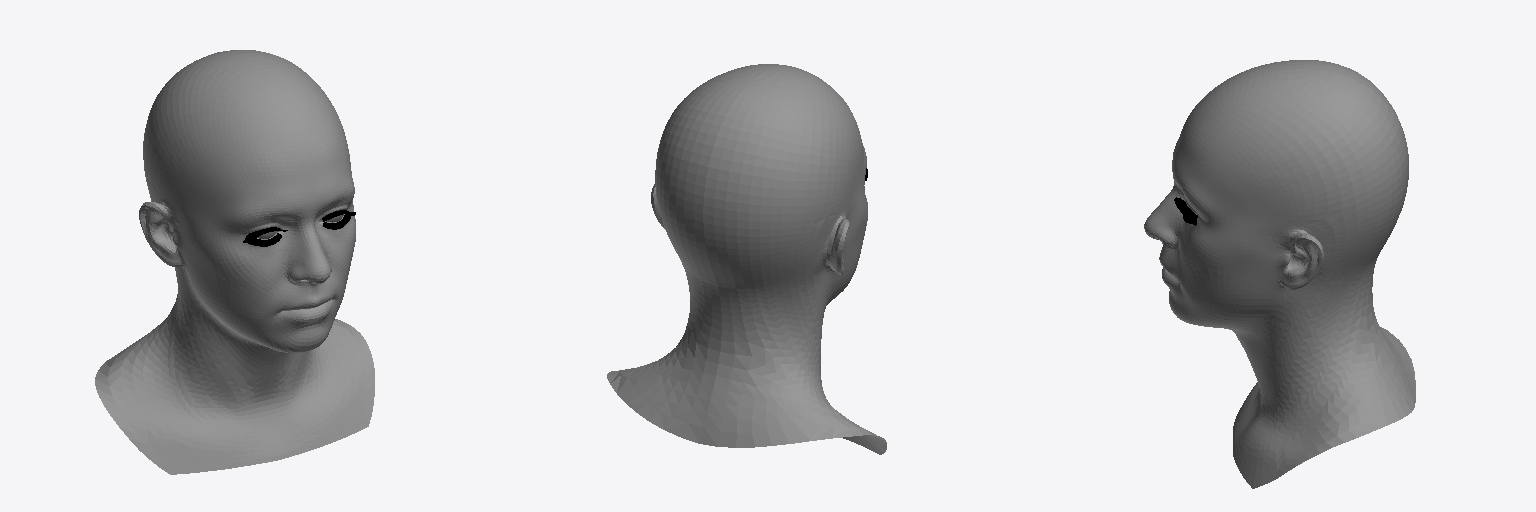
The model's file is identity039.obj.
3 views of the same model, side by side, from view 1: azimuth 30°, elevation 25°; view 2: azimuth 150°, elevation 25°; view 3: azimuth 270°, elevation 25° (orthographic).
Size of the model in its own units: 24.87 by 33.8 by 22.28.